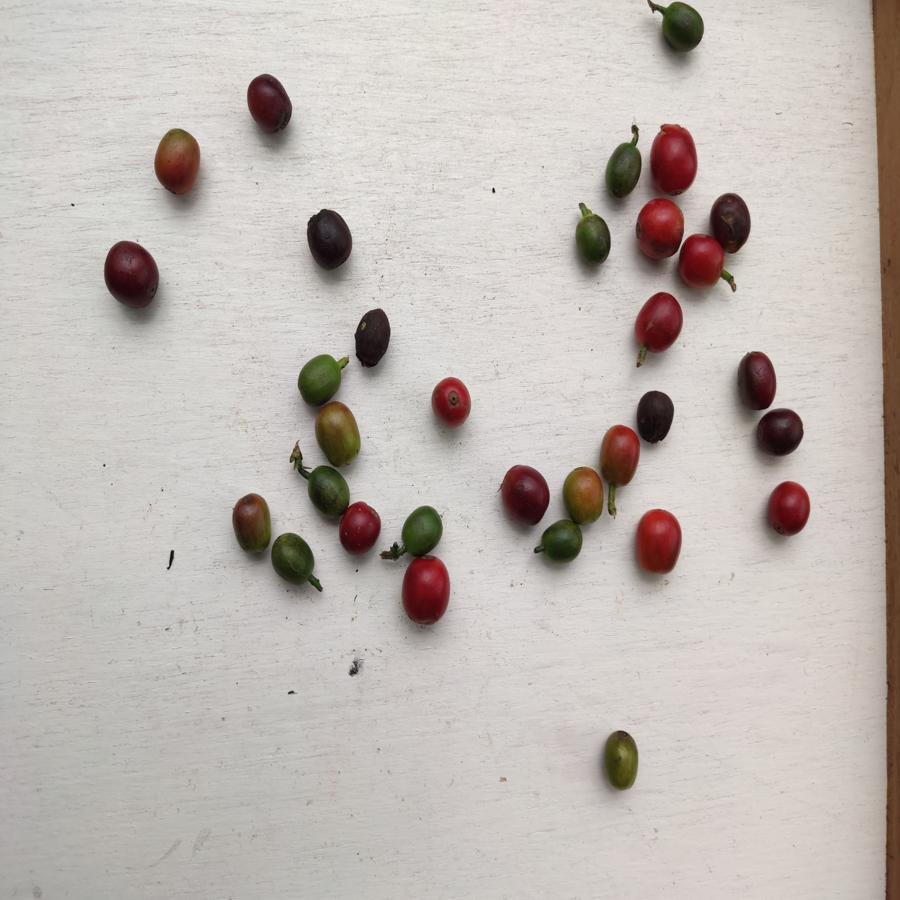Inmaduro: (271, 528, 320, 589), (304, 466, 352, 521), (571, 210, 616, 267), (399, 502, 445, 556), (604, 140, 644, 200), (296, 354, 344, 402), (662, 1, 703, 56), (540, 518, 583, 569)
Maduro: (630, 286, 688, 354), (399, 554, 450, 628), (633, 503, 684, 575), (647, 123, 698, 195), (634, 196, 685, 263), (765, 478, 815, 536), (679, 237, 727, 289), (428, 376, 474, 428)
Pinton: (151, 127, 204, 195), (316, 403, 365, 463), (599, 727, 642, 795), (230, 492, 273, 556), (602, 423, 640, 486), (564, 466, 606, 522)
Sobremaduro: (101, 239, 162, 312), (496, 463, 553, 527), (244, 71, 297, 135), (302, 208, 356, 270), (735, 349, 778, 411), (352, 306, 392, 372), (711, 192, 753, 251), (635, 390, 678, 447), (756, 407, 804, 458), (341, 502, 381, 557)
